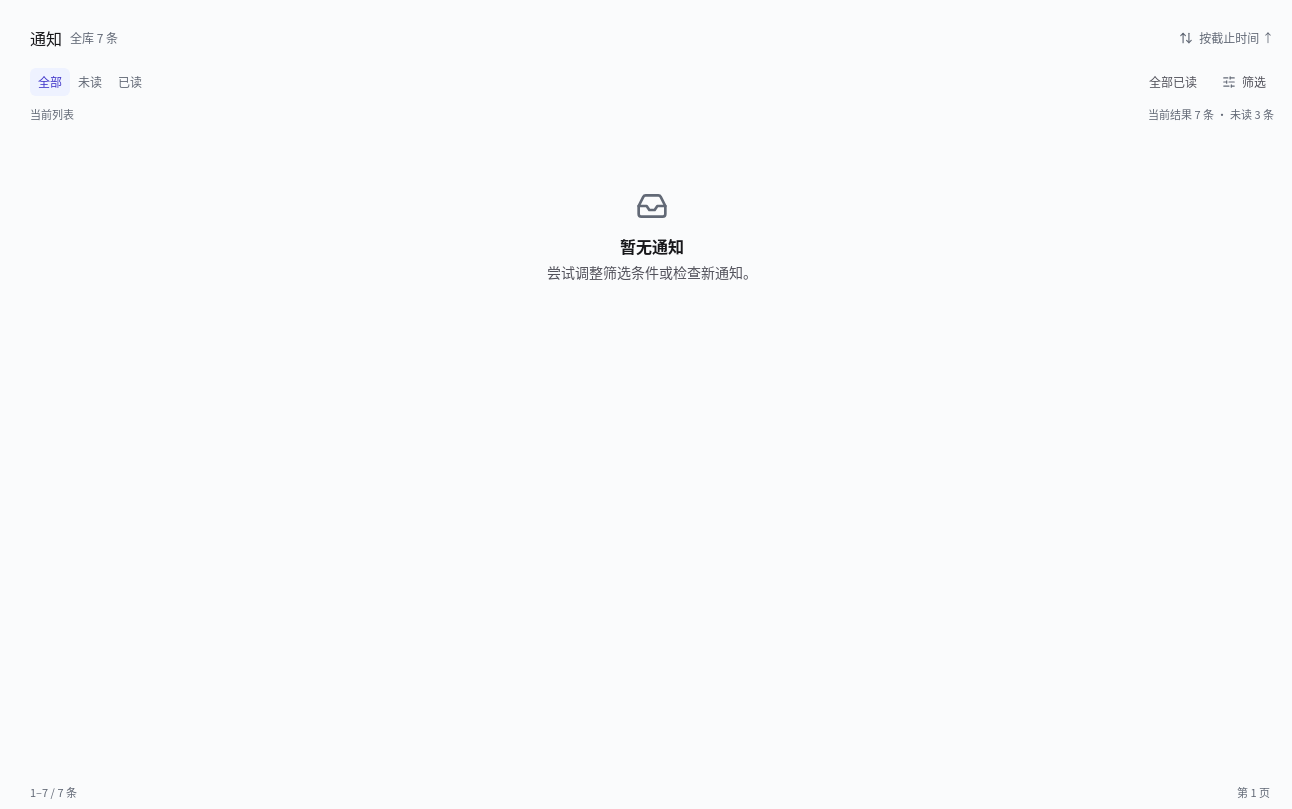
Test: NoticesPage states and filters › distinguishes the global total from filtered and unread result counts
Expected: the text "全库 7 条" is shown, x1=70 y1=29 x2=118 y2=47
Expected: the text "当前结果 7 条 · 未读 3 条" is shown, x1=1148 y1=106 x2=1274 y2=122
Click the tab "未读": click(90, 82) x1=70 y1=68 x2=110 y2=96
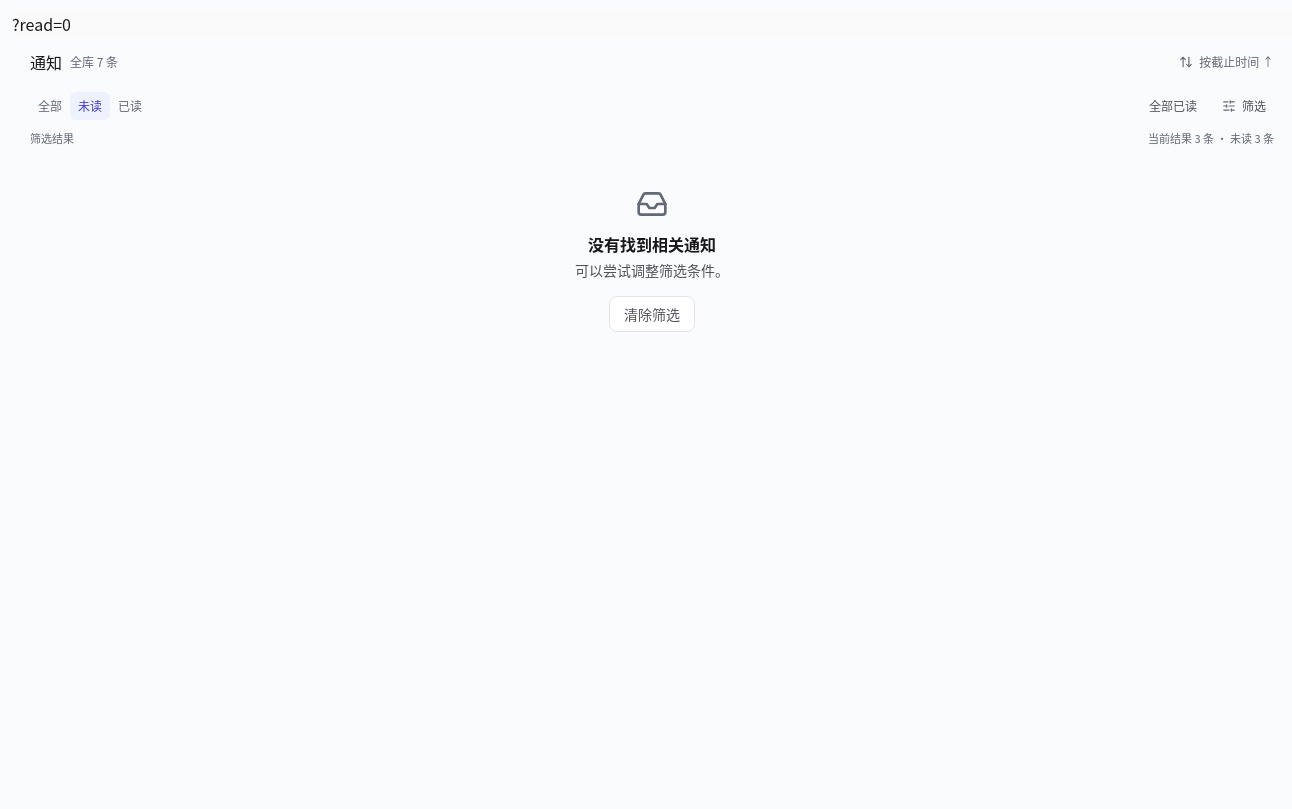
Expected: the text "全库 7 条" is shown, x1=70 y1=53 x2=118 y2=71
Expected: the text with test id "location" shows "read=0", x1=12 y1=12 x2=71 y2=36
Expected: the text "当前结果 3 条 · 未读 3 条" is shown, x1=1148 y1=130 x2=1274 y2=146
